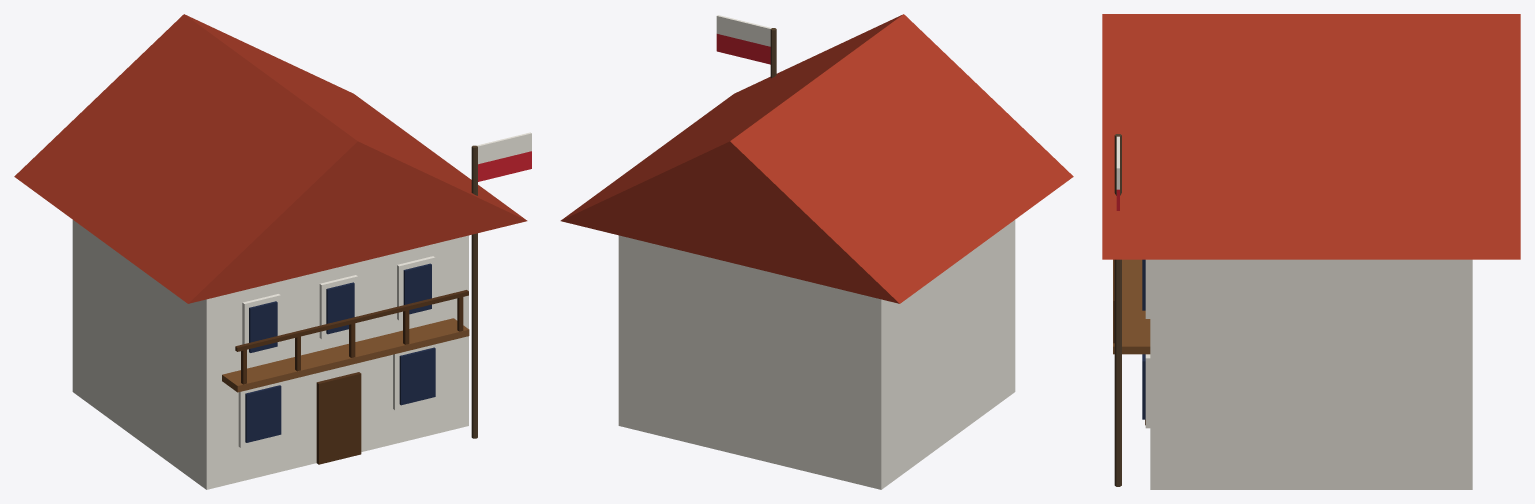
The model's file is knp_lozanna.glb.
3 renders of one model, left to right at view 1: azimuth 30°, elevation 25°; view 2: azimuth 150°, elevation 25°; view 3: azimuth 270°, elevation 25°, orthographic. The views are drawn at different scales.
Visible parts, largest first — view 1: knp_lozanna; view 2: knp_lozanna; view 3: knp_lozanna.
Part boxes in pixels (bbox=[...]): knp_lozanna: bbox=[14, 14, 531, 489]; knp_lozanna: bbox=[560, 14, 1073, 489]; knp_lozanna: bbox=[1102, 14, 1520, 489].
Size of the model in its own units: 4.53 by 4.1 by 3.9.
